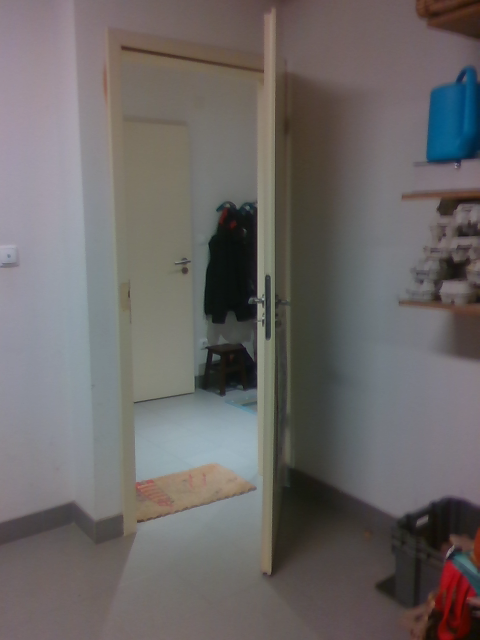semi: (107, 16, 284, 578)
